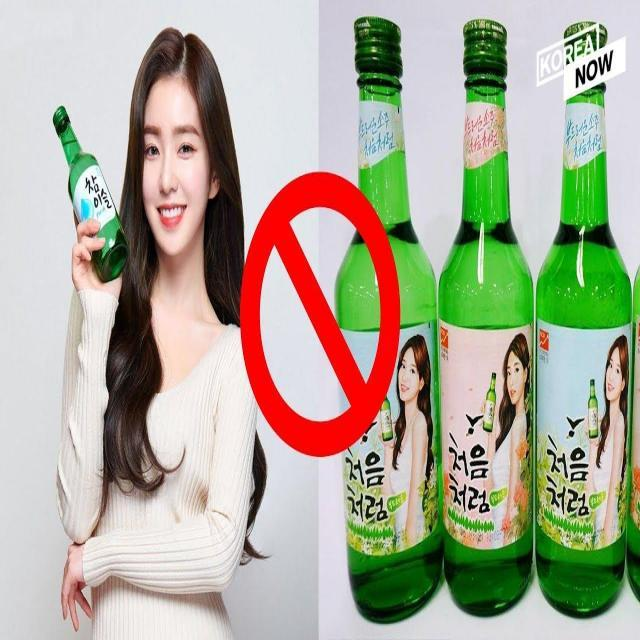soju-bottle: (434, 12, 536, 620), (334, 17, 436, 624), (534, 25, 630, 624), (51, 106, 128, 286)
